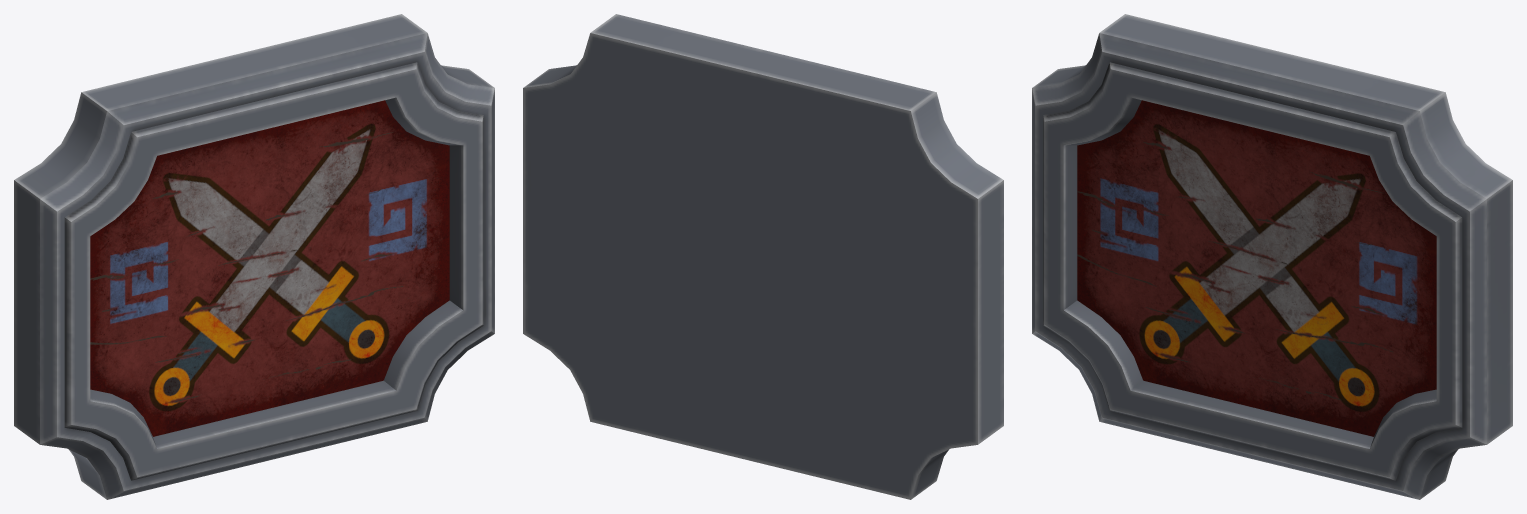
Rendered from sb_obj_outdoor_SignBoard01.fbx.
The picture shows the model from 3 angles, left to right: view 1: azimuth 30°, elevation 25°; view 2: azimuth 150°, elevation 25°; view 3: azimuth 330°, elevation 25°; orthographic projection.
Parts seen in each view (by area): view 1: 01; view 2: 01; view 3: 01.
Part boxes in pixels (bbox=[...]): 01: bbox=[14, 14, 494, 499]; 01: bbox=[523, 14, 1003, 499]; 01: bbox=[1032, 14, 1512, 499].
Bounding box in the file's own units: 0.9998 × 0.8165 × 0.1341.
